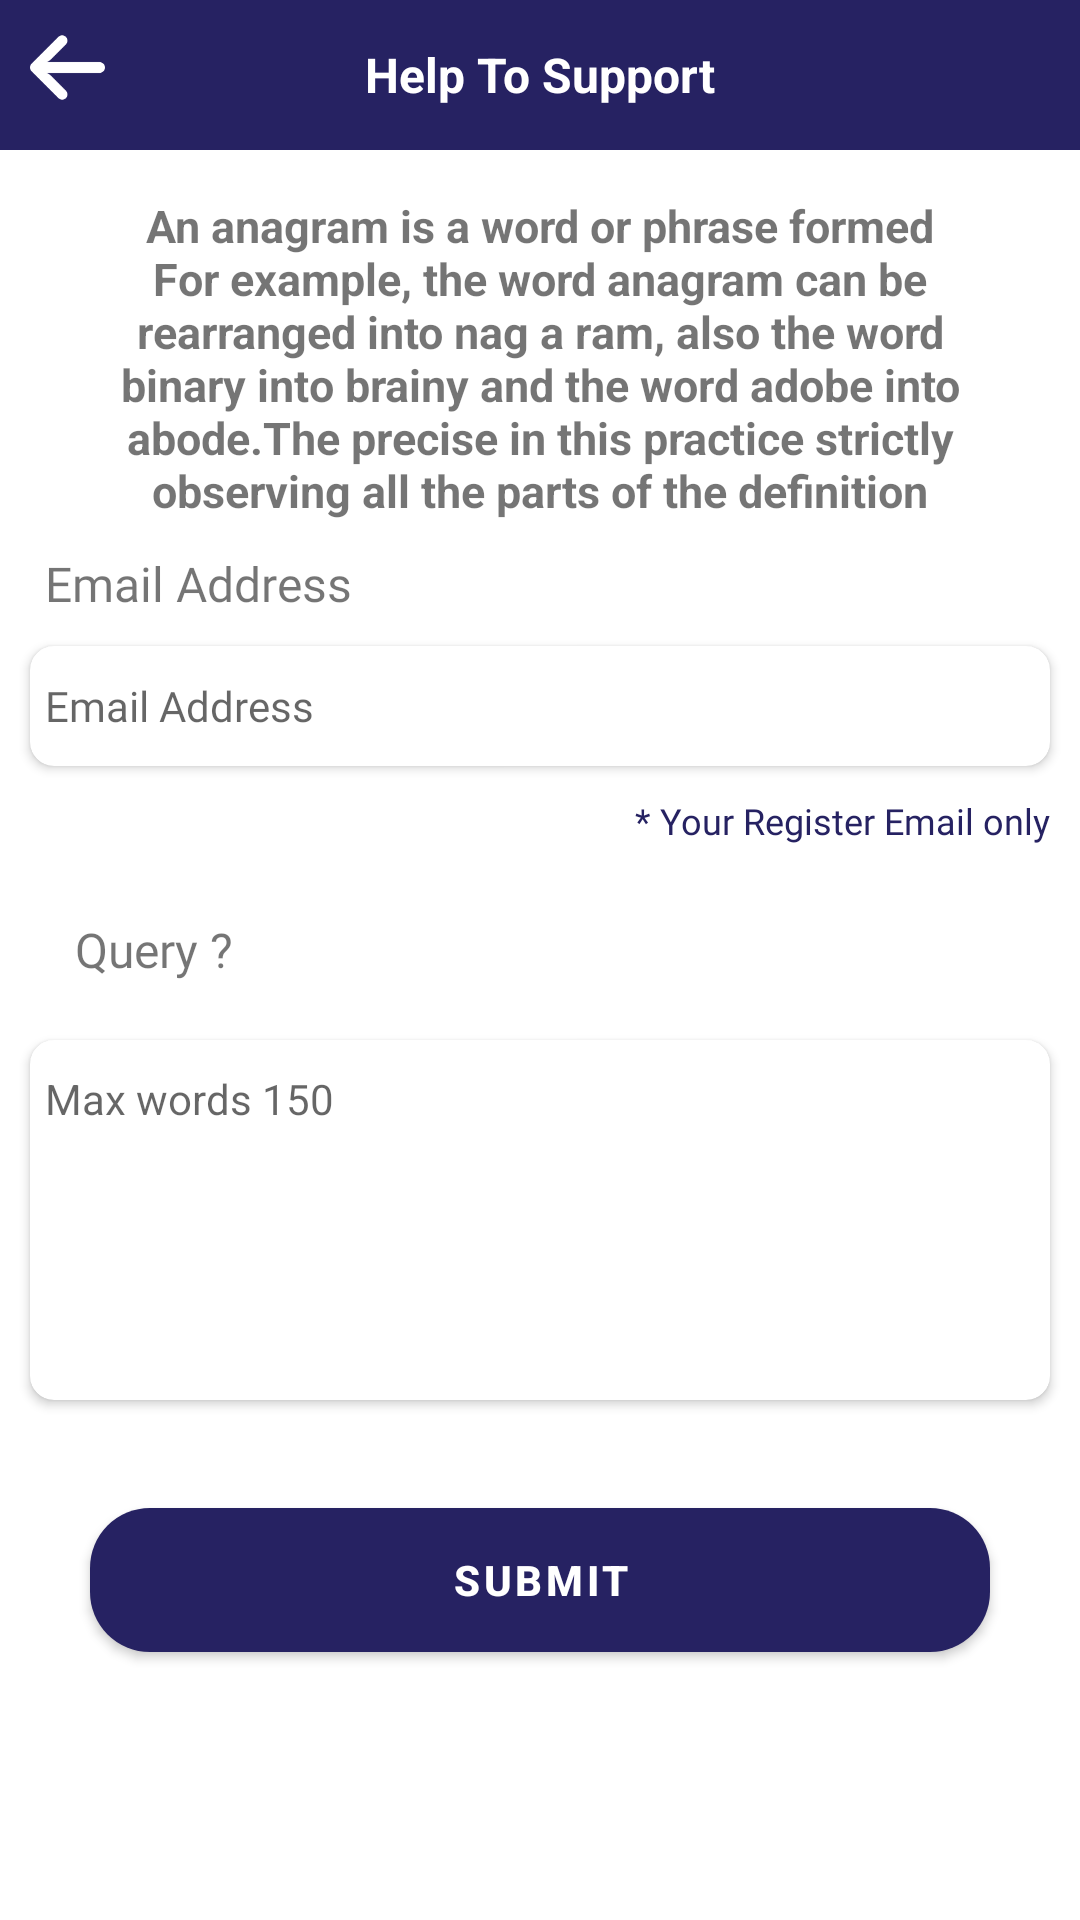

Locate icon controls on the screen. Image size 1080 × 1920, boxes as [x1,y1,x2,y2].
back: [30,35,105,100]
